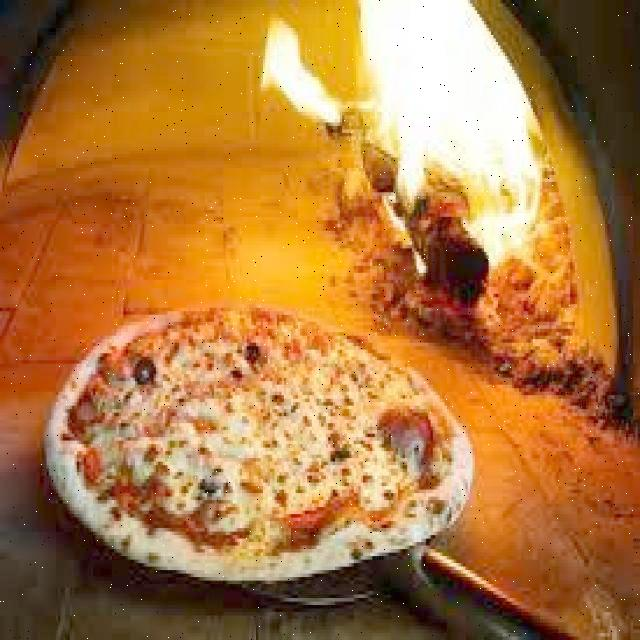fire: (250, 0, 561, 270)
